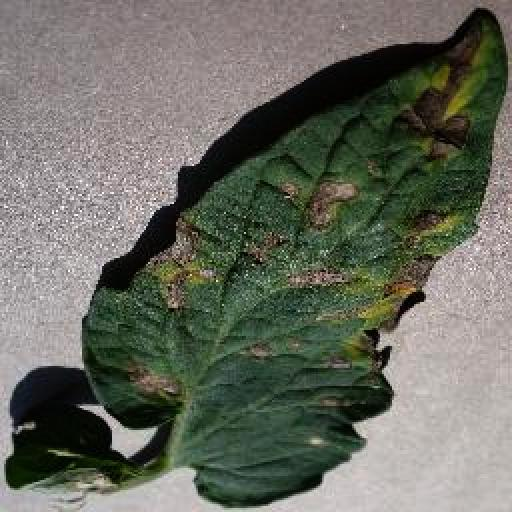disease_tomato: (76, 8, 506, 502)
